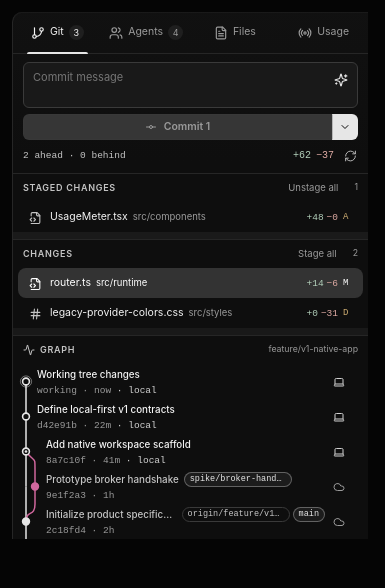
Test: RightRail › commits with Ctrl+Enter and exposes failures instead of reporting fake success
This screenshot has width=385, height=588.
Type "Ship the staged change" into the text box labelled "Commit message". click: (190, 85)
box: [24,63,357,107]
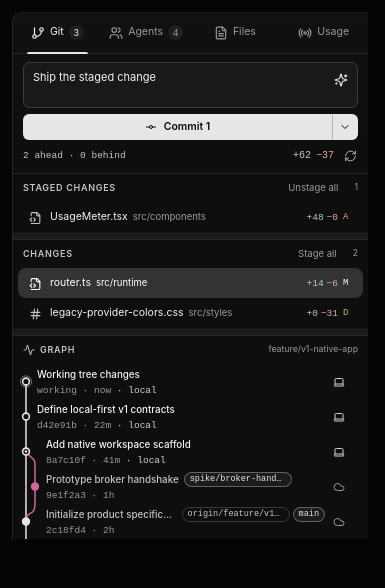
Press Enter in the text box named "Commit message", box [24,63,357,107]
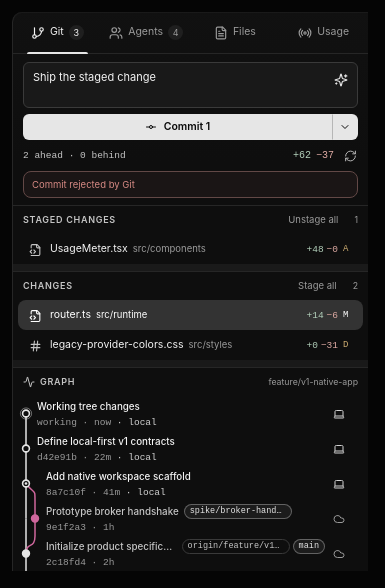
Expected: the message reads "Commit rejected by Git", [32,179,135,190]
